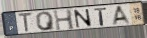A: (111, 5, 133, 26)
H: (53, 8, 76, 32)
N: (73, 8, 94, 29)
Q: (35, 11, 57, 32)
T: (18, 11, 34, 33), (93, 7, 109, 27)
